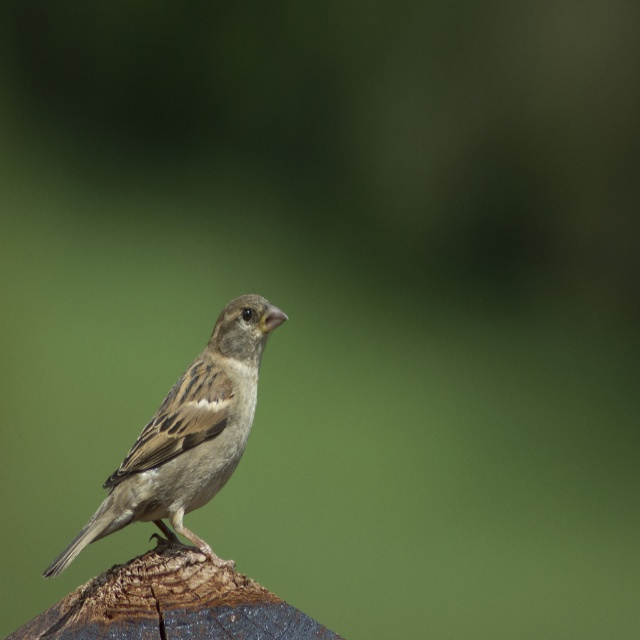Sparrow: (44, 290, 287, 575)
